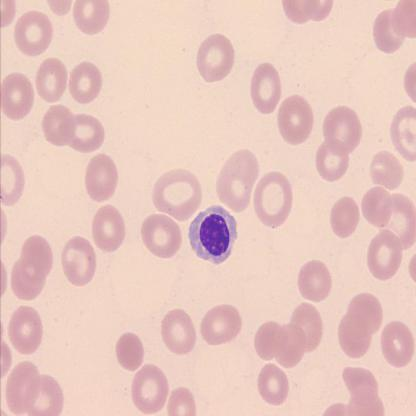NRC: (187, 200, 239, 266)
